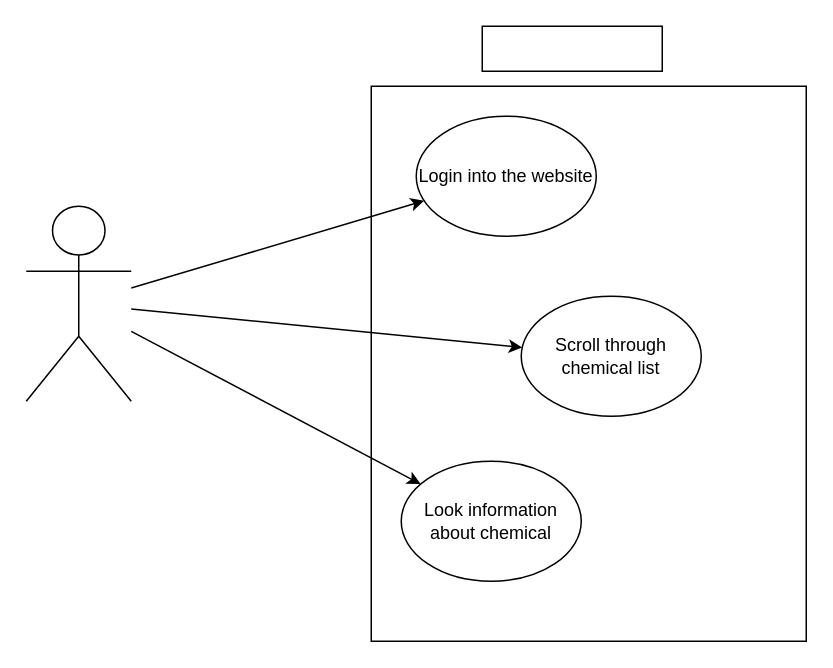
This 833x668 diagram has some shape labels left out. Here are the shapes that lost their labels. From the top down, the box of each, then its label:
(481, 25, 662, 71): Chemical register
(25, 205, 131, 401): User
